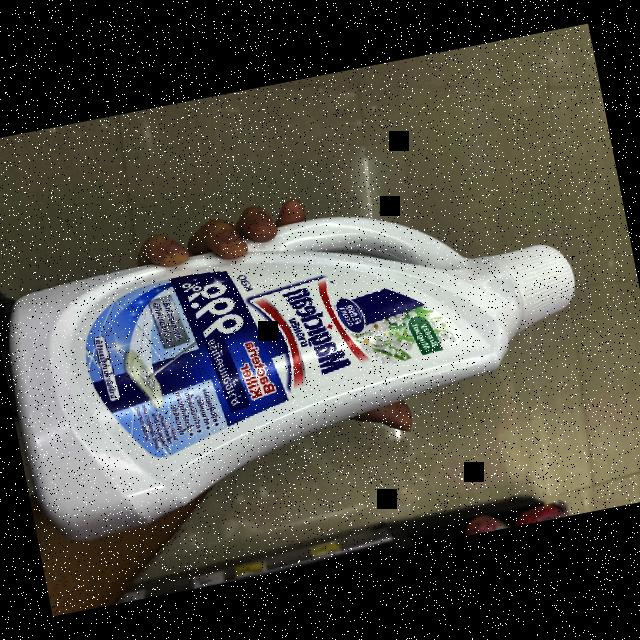chemical_plastic_gallon: (0, 162, 615, 555)
